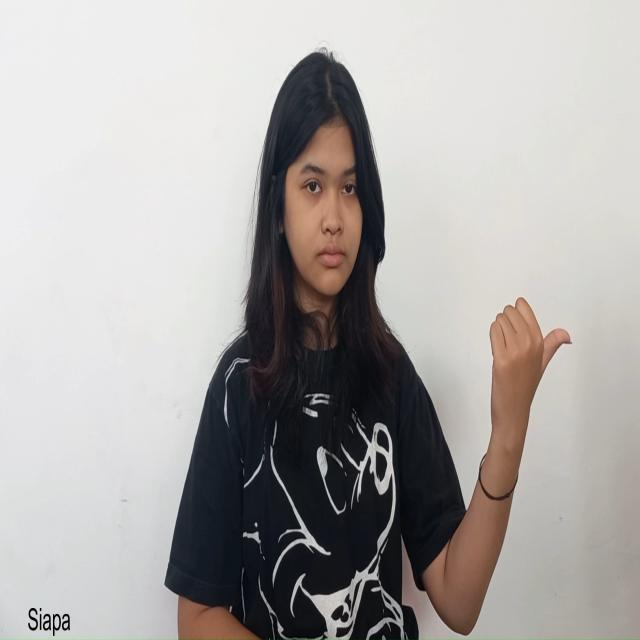Siapa -BISINDO-: (487, 290, 574, 472)
